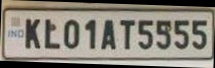character: (100, 19, 117, 49), (44, 18, 60, 49), (137, 18, 153, 49), (191, 19, 207, 50), (25, 17, 40, 49), (63, 19, 79, 49), (120, 19, 135, 50), (155, 19, 170, 50), (174, 19, 189, 49), (84, 19, 96, 50)
